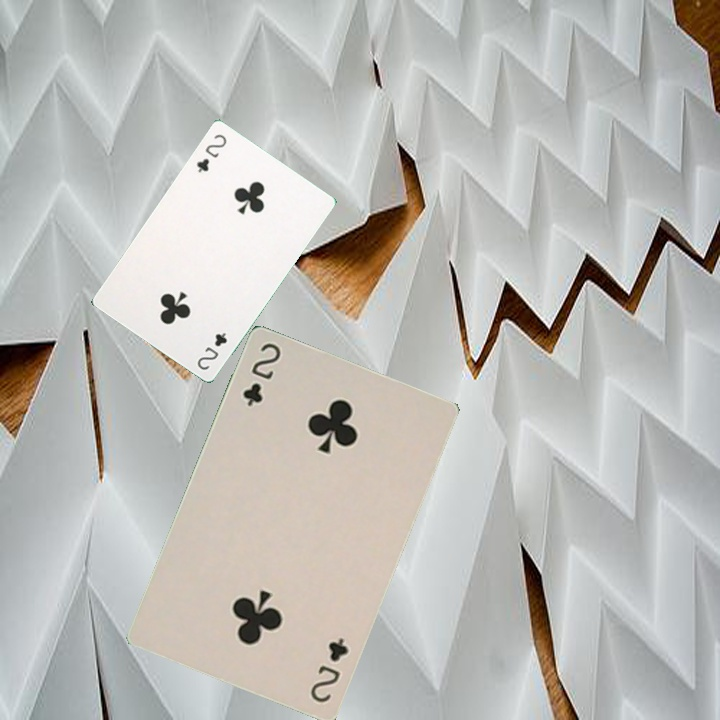2c: (306, 633, 351, 706), (238, 338, 284, 409), (192, 130, 229, 175), (193, 328, 230, 373)
